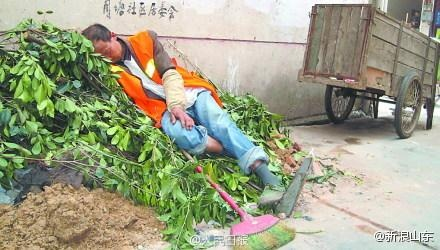falling: (67, 19, 288, 198)
